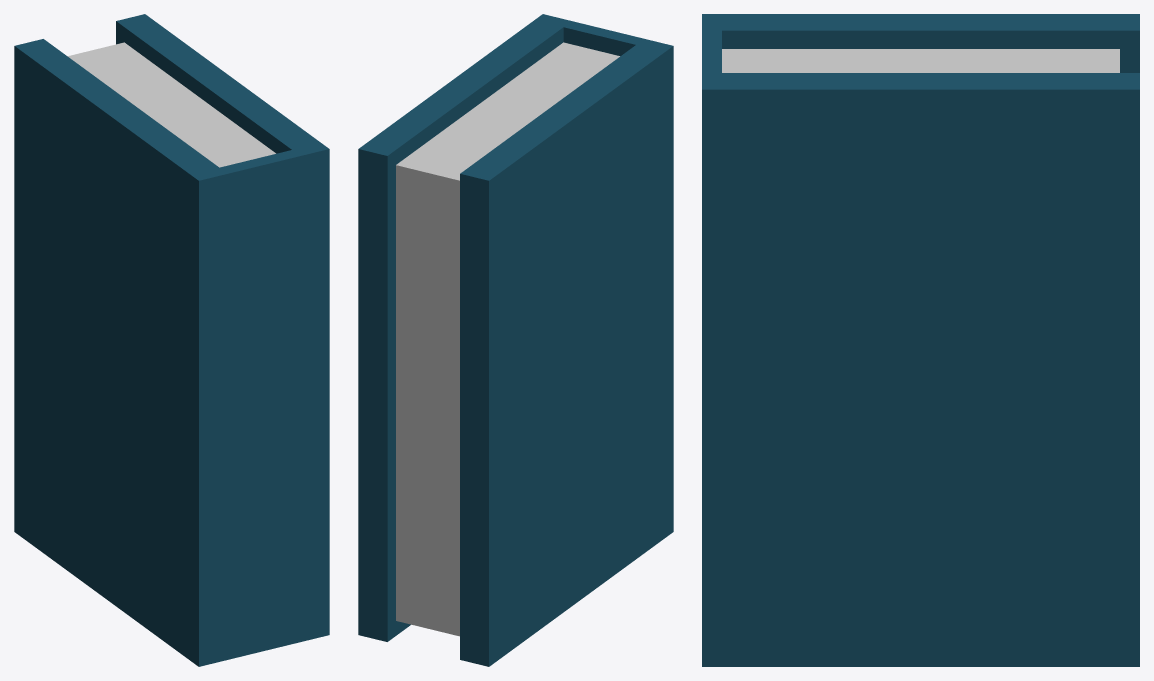
File: DarkBlueBook.fbx
The picture shows the model from 3 angles, left to right: view 1: azimuth 30°, elevation 25°; view 2: azimuth 150°, elevation 25°; view 3: azimuth 270°, elevation 25°; orthographic projection. The views are drawn at different scales.
Visible parts, largest first — view 1: DarkBlueBook; view 2: DarkBlueBook; view 3: DarkBlueBook.
Boxes of the visible parts, <box> form: DarkBlueBook: <box>14,14,329,666</box>; DarkBlueBook: <box>358,14,673,666</box>; DarkBlueBook: <box>702,14,1139,666</box>.
Bounding box in the file's own units: 9 × 32 × 22.
1 material, 1 textured.
